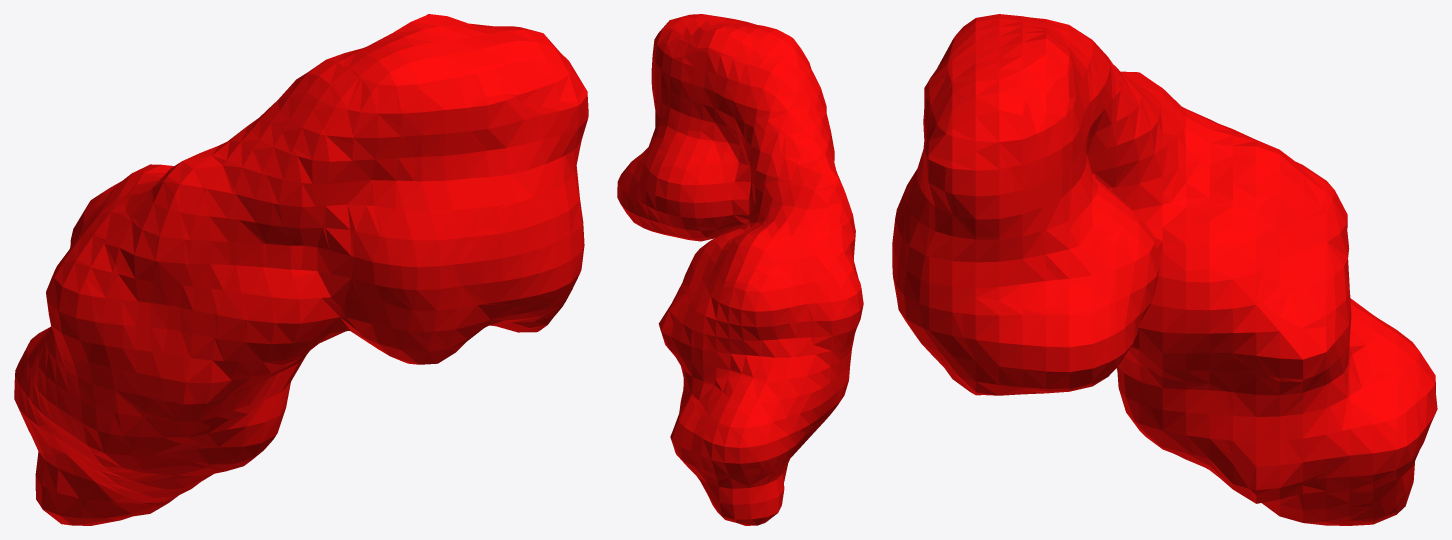
Rendered from rpsH_coarse.dae.
The picture shows the model from 3 angles, left to right: view 1: azimuth 30°, elevation 25°; view 2: azimuth 150°, elevation 25°; view 3: azimuth 270°, elevation 25°; orthographic projection. The views are drawn at different scales.
Parts seen in each view (by area): view 1: rpsH; view 2: rpsH; view 3: rpsH.
Part boxes in pixels (x1,y1,x2,y2): rpsH: (14,14,588,525); rpsH: (617,14,863,525); rpsH: (892,14,1437,525).
Bounding box in the file's own units: 46.88 × 60.31 × 51.09.
